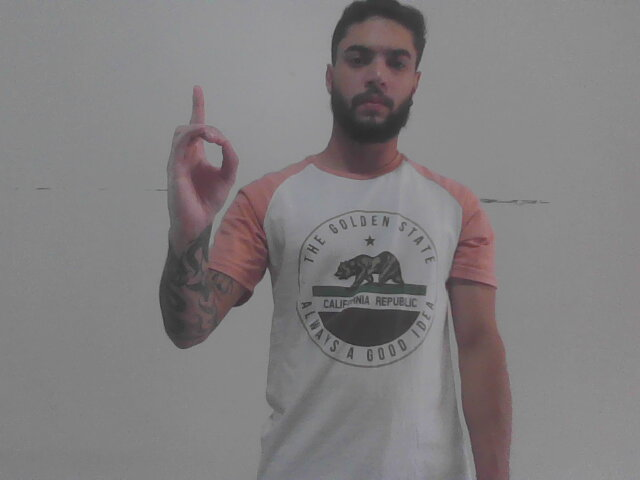d: (158, 80, 241, 244)
